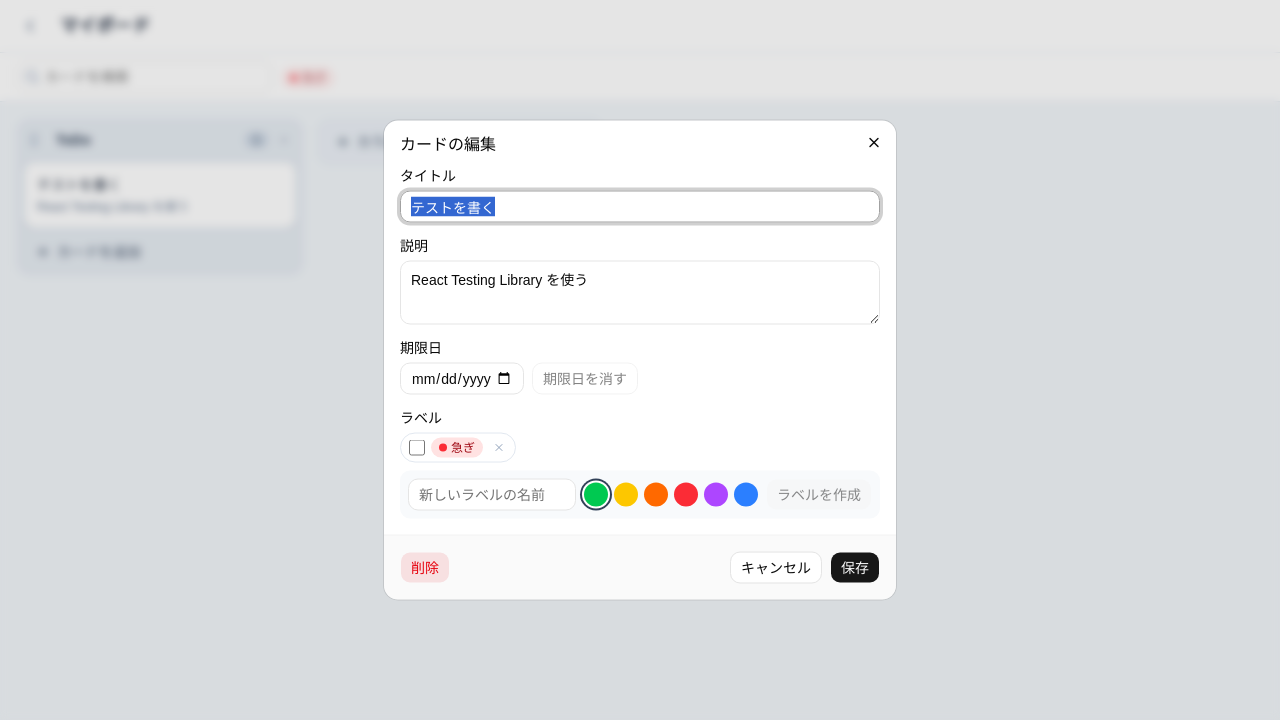
it: カード詳細 › タイトルと説明を変えて保存すると、閉じてボードに反映される
The width and height of the screenshot is (1280, 720).
Expected: the dialog "カードの編集" is shown, [384, 120, 896, 600]
Replace the text in the field labelled "タイトル" with "テストを増やす" at (640, 206), box [400, 190, 880, 222]
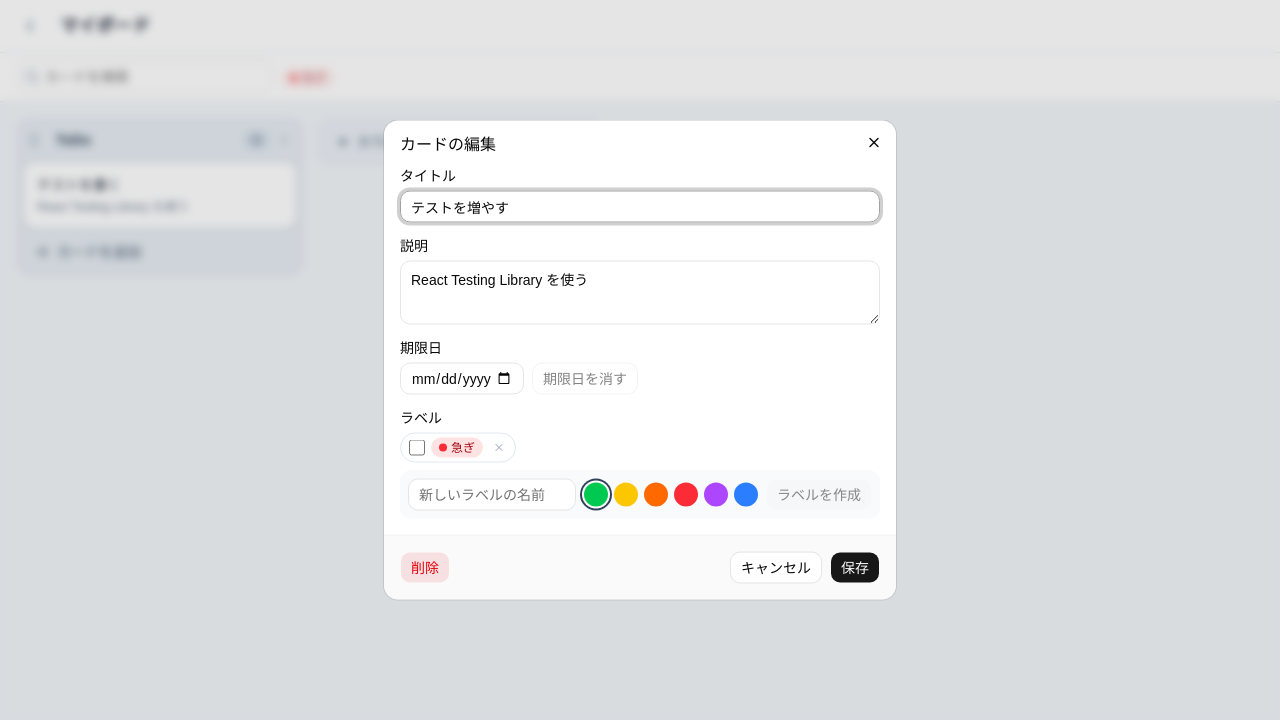
Replace the text in the text box labelled "説明" with "  画面のテストを足す  " at (640, 292), box [400, 260, 880, 324]
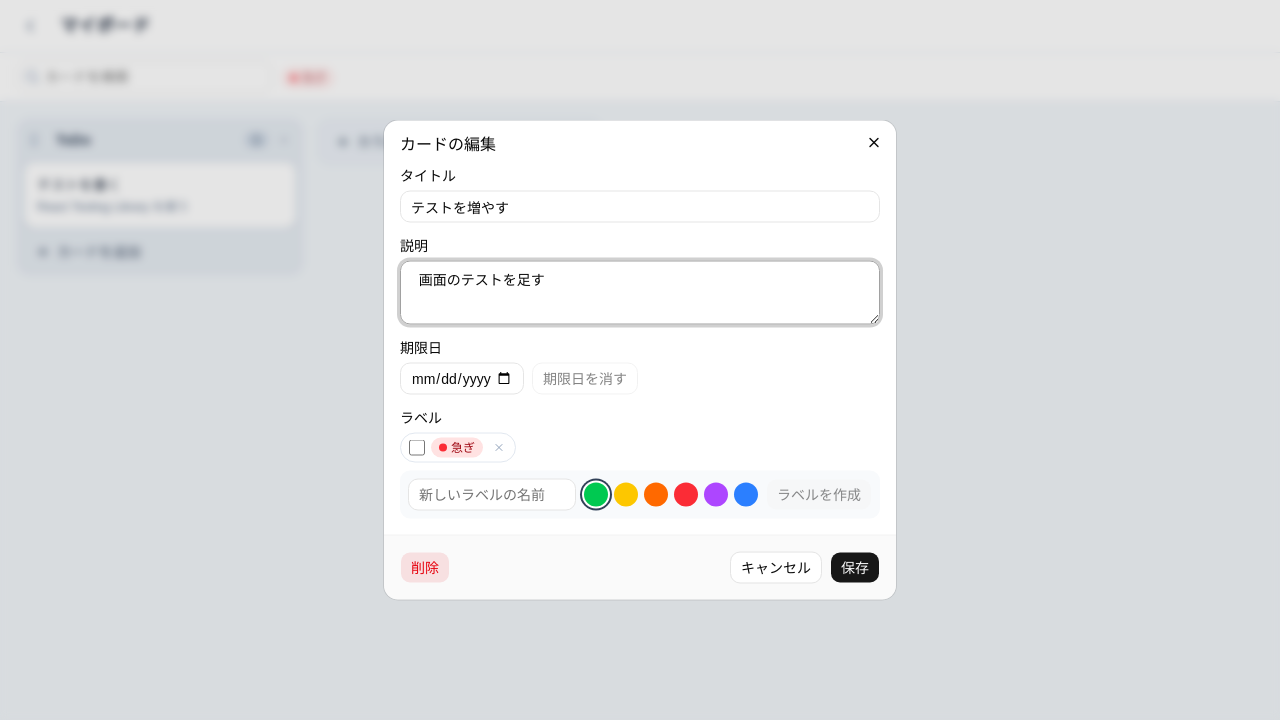
Click the button "保存" at (855, 568), box [830, 552, 880, 584]
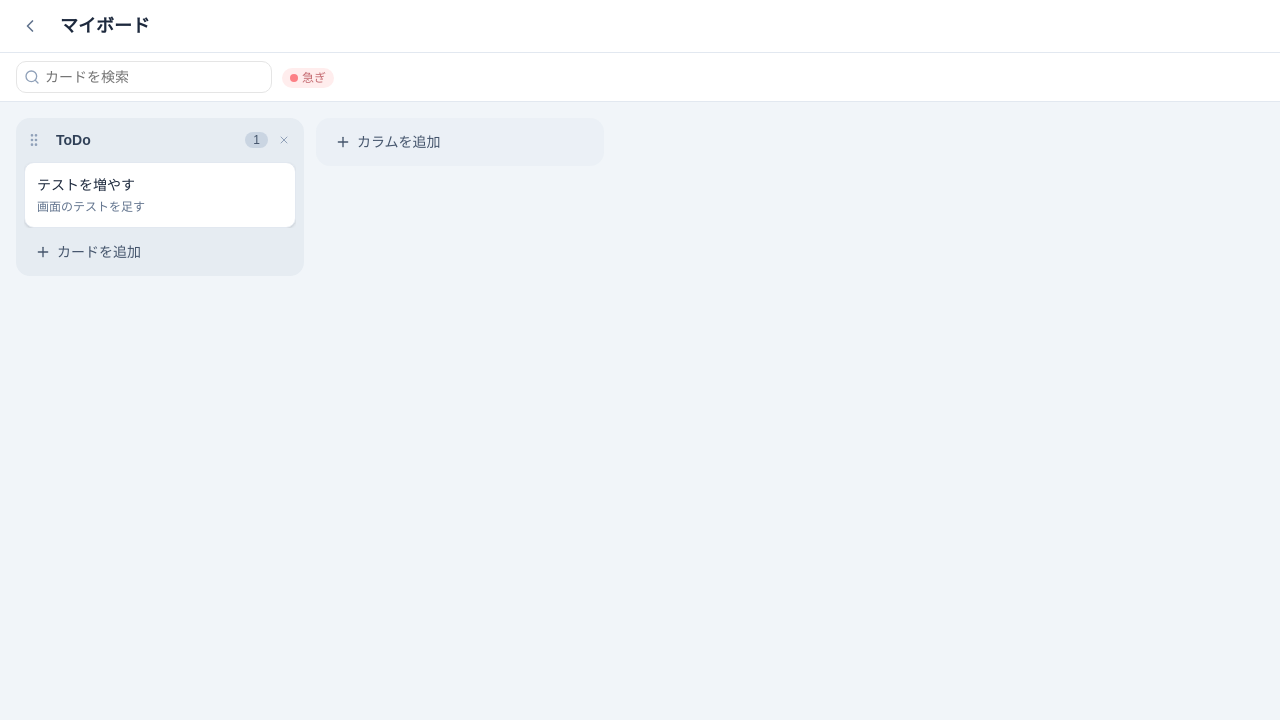
Expected: the dialog is gone
Expected: the button with aria-label "カード「テストを増やす」" is shown, [24, 162, 296, 228]
